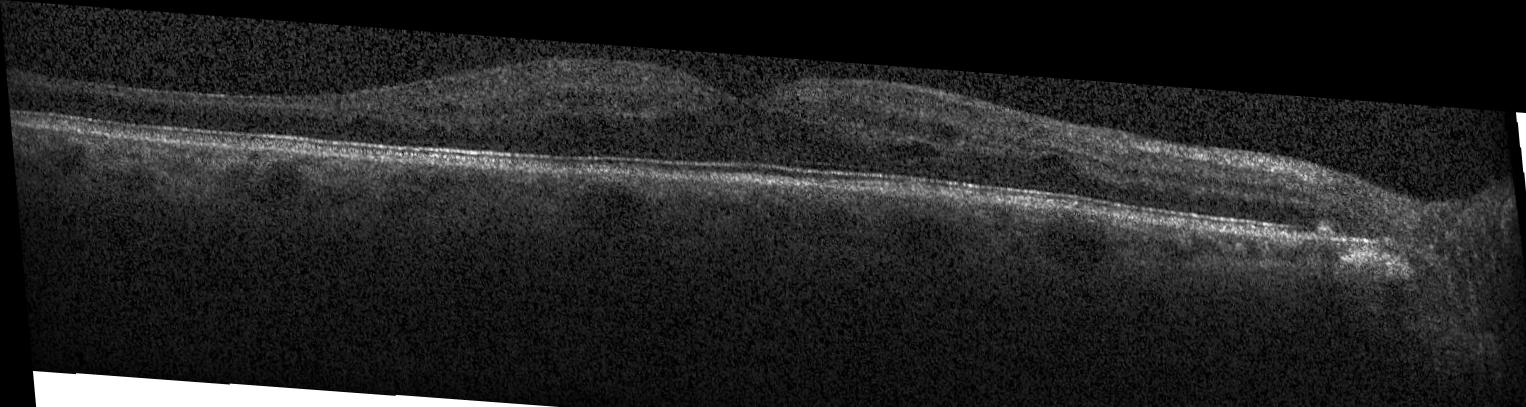intraretinal_cyst: (887, 127, 941, 146), (1031, 137, 1061, 152), (349, 112, 383, 121), (424, 118, 445, 129)
